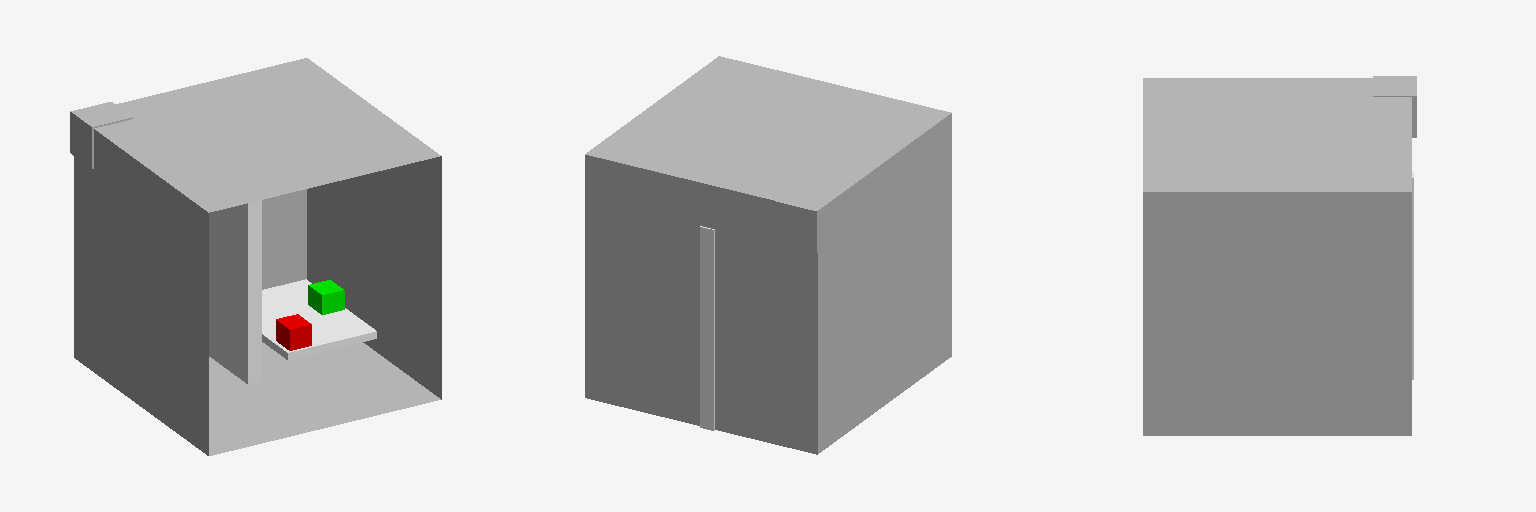
The picture shows the model from 3 angles: view 1: azimuth 30°, elevation 25°; view 2: azimuth 150°, elevation 25°; view 3: azimuth 270°, elevation 25°; orthographic projection.
Parts seen in each view (by area): view 1: BigCube, murret_Cube.001, plateforme_Cube.004, CubeCentrale_Cube.005, lumiere_basse_Cube.001, lumiere_basse_Cube.003; view 2: BigCube, CubeCentrale_Cube.005, murret_Cube.001; view 3: BigCube, CubeCentrale_Cube.005.
Boxes of the visible parts, <box> form: BigCube: <box>74,58,441,455</box>; murret_Cube.001: <box>209,200,261,384</box>; plateforme_Cube.004: <box>262,279,376,359</box>; CubeCentrale_Cube.005: <box>70,102,132,168</box>; lumiere_basse_Cube.001: <box>276,314,311,350</box>; lumiere_basse_Cube.003: <box>308,280,344,314</box>; BigCube: <box>585,56,951,454</box>; CubeCentrale_Cube.005: <box>776,186,838,252</box>; murret_Cube.001: <box>700,226,714,430</box>; BigCube: <box>1143,78,1411,435</box>; CubeCentrale_Cube.005: <box>1373,76,1416,137</box>.
Bounding box in the file's own units: 1.01 × 1.01 × 1.02.